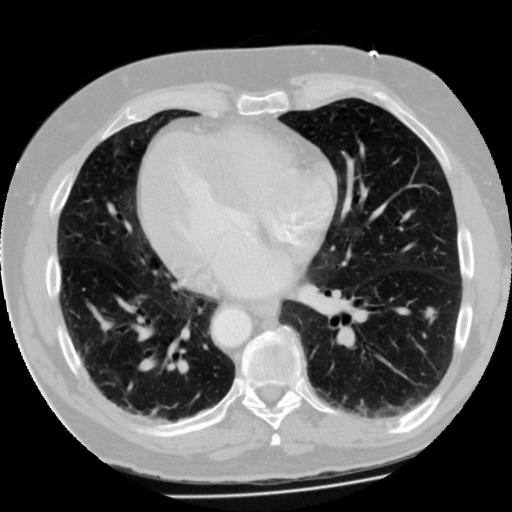nodule: (424, 304, 441, 321)
